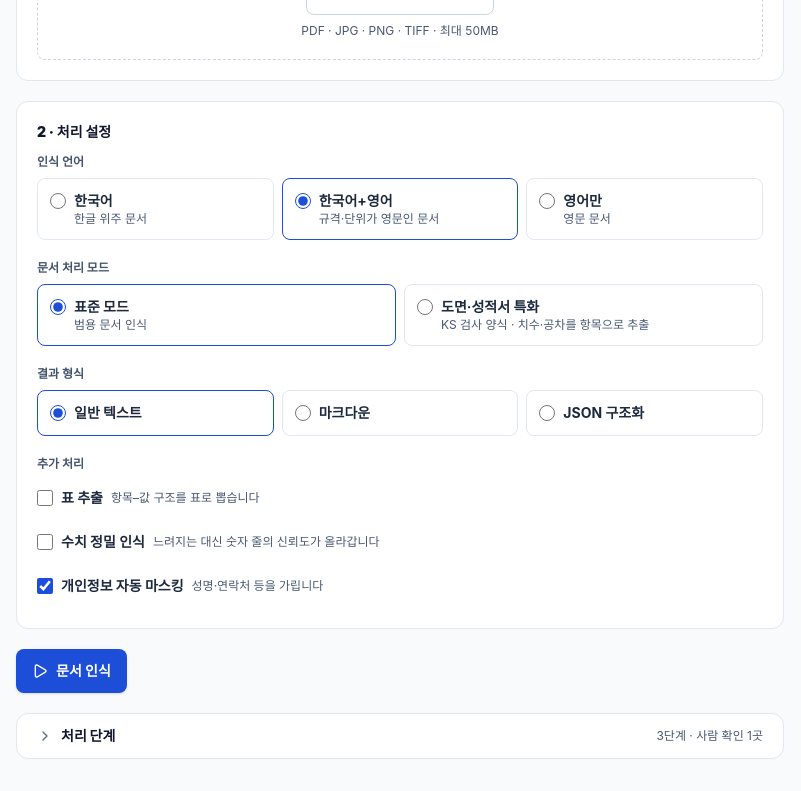
Test: OcrPage › 신뢰도가 낮은 줄을 표시하고 건수를 알린다
(page scrolled)
Click the button "문서 인식". click: (71, 671)
box: [16,649,127,693]
(page scrolled)
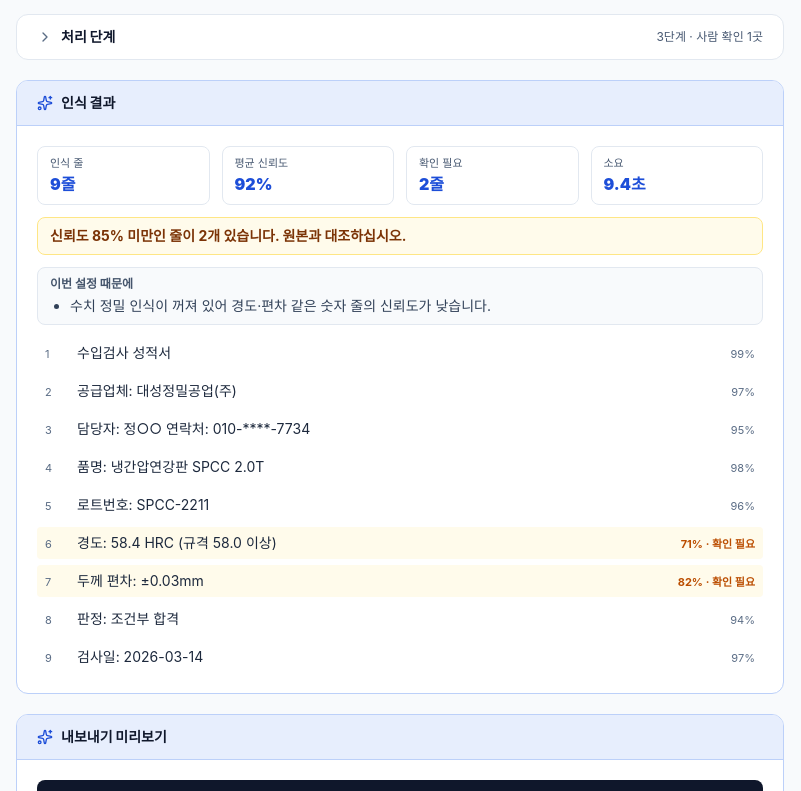
Expected: the element "인식 결과" shows "확인 필요", [419,156,463,170]
Expected: the element "인식 결과" shows "미만인 줄이 2개 있습니다"
